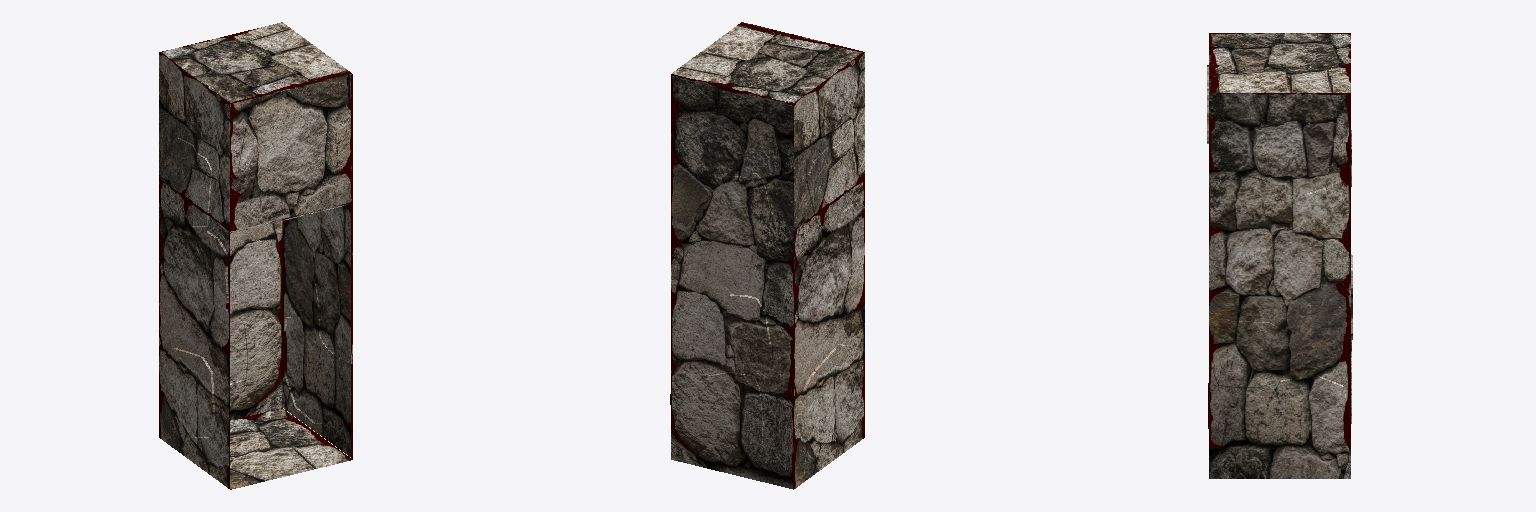
The picture shows the model from 3 angles: view 1: azimuth 30°, elevation 25°; view 2: azimuth 150°, elevation 25°; view 3: azimuth 270°, elevation 25°; orthographic projection.
Parts seen in each view (by area): view 1: Cube; view 2: Cube; view 3: Cube.
Boxes of the visible parts, box(x1,y1,x2,y2) form: Cube: box(159, 22, 352, 489); Cube: box(670, 22, 864, 489); Cube: box(1207, 33, 1352, 478).
Bounding box in the file's own units: 2.05 × 6 × 2.05.
1 materials, 1 textured.